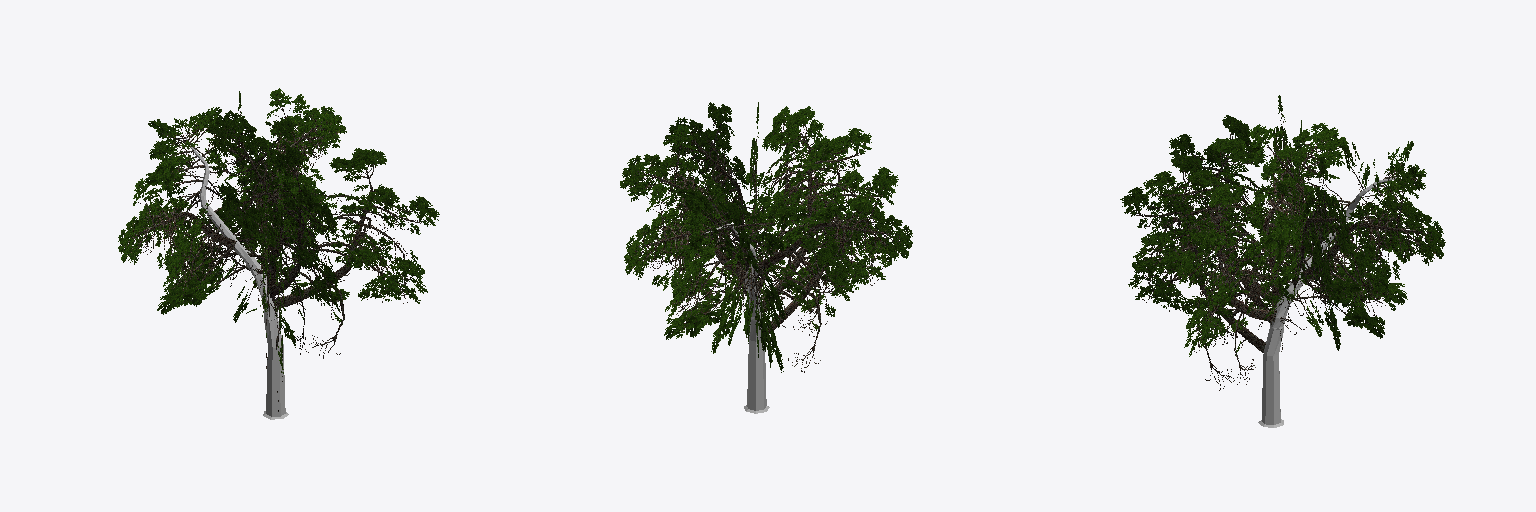
3 views of the same model, side by side, from view 1: azimuth 30°, elevation 25°; view 2: azimuth 150°, elevation 25°; view 3: azimuth 270°, elevation 25° (orthographic).
Visible parts, largest first — view 1: 4.2.2004.1114; view 2: 4.2.2004.1114; view 3: 4.2.2004.1114.
Boxes of the visible parts, x1=… form: 4.2.2004.1114: x1=118, y1=88, x2=439, y2=419; 4.2.2004.1114: x1=620, y1=102, x2=912, y2=413; 4.2.2004.1114: x1=1120, y1=95, x2=1445, y2=427.
Size of the model in its own units: 11.23 by 10.5 by 11.84.
4 materials, 3 textured.